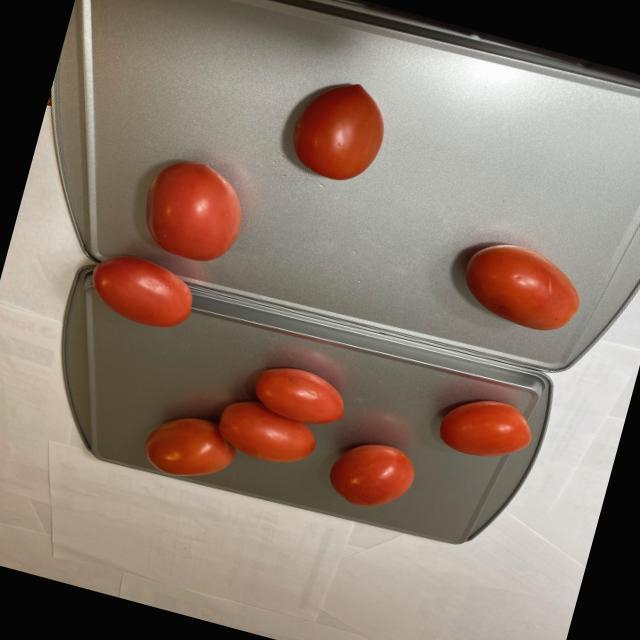tomato: (136, 317, 540, 562), (82, 142, 264, 344), (279, 64, 402, 192), (449, 235, 594, 341)
